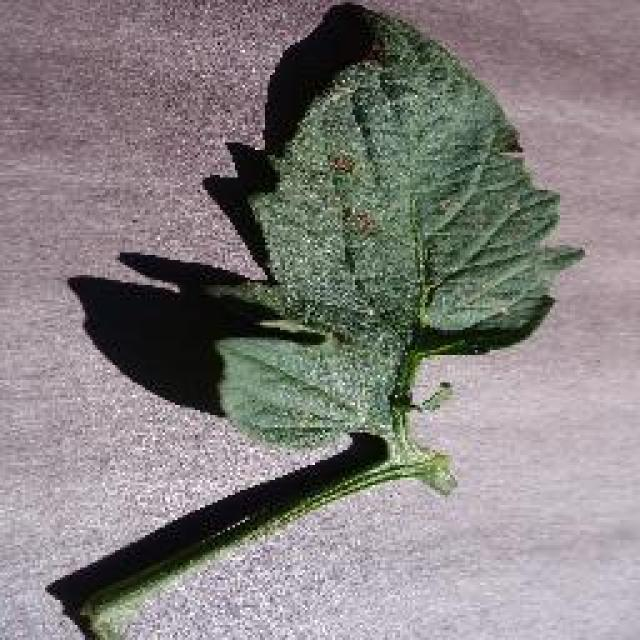Tomato Early blight leaf: (222, 11, 560, 479)
